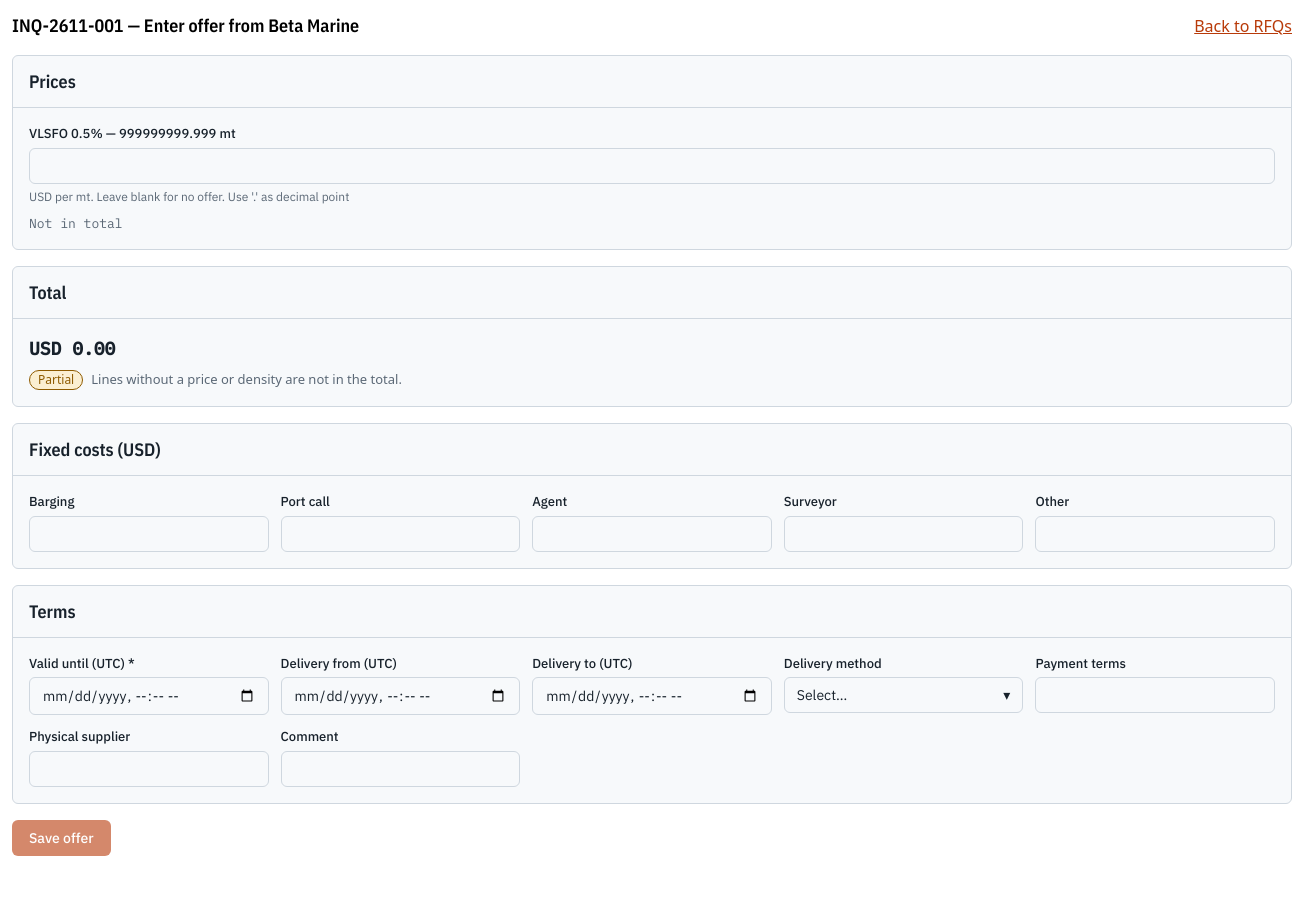
Test: OfferEntry › [B4-R12] a total over the limit says so instead of showing a number
Type "99999.999" into the field labelled "VLSFO 0.5% — 999999999.999 mt".
click(652, 166); type("99999.999")  # box [29,148,1275,184]
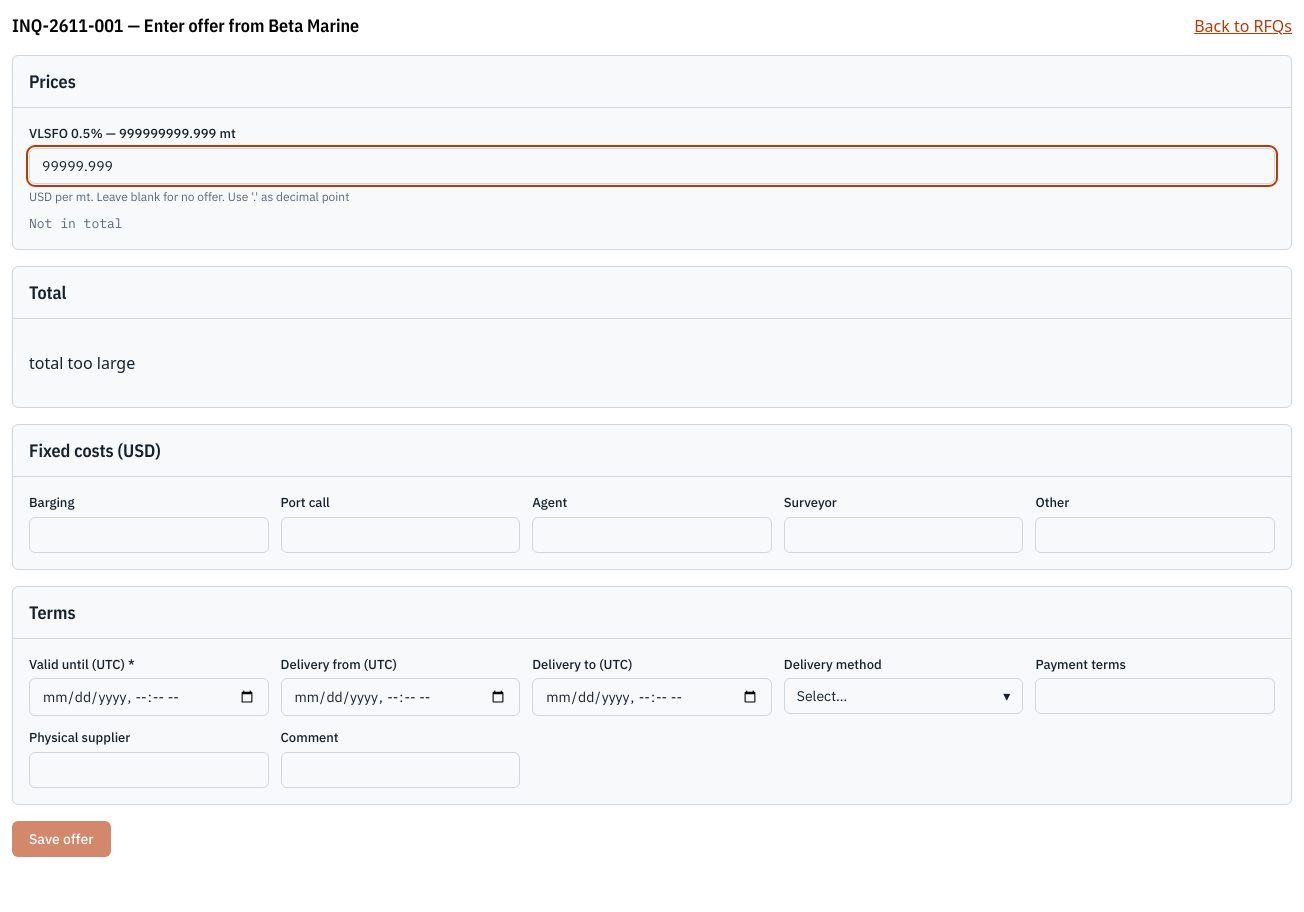
Now the message reads "total too large", box [29,352,135,374]
